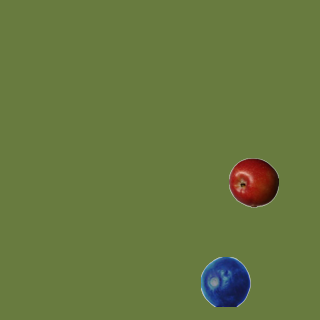Apple Braeburn: (228, 157, 278, 207)
Huckleberry: (200, 256, 250, 306)
